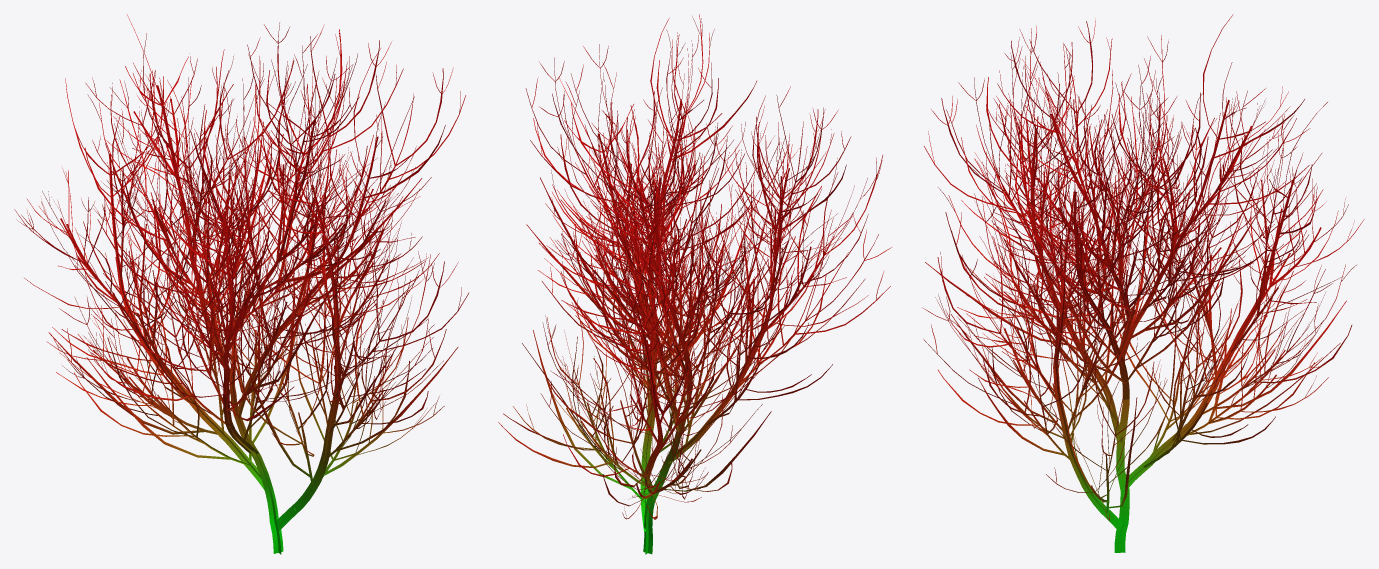
The model's file is Leptadenia_LOD2_Var1_xdkgfgtqx.fbx.
The picture shows the model from 3 angles, left to right: view 1: azimuth 30°, elevation 25°; view 2: azimuth 150°, elevation 25°; view 3: azimuth 270°, elevation 25°; orthographic projection. The views are drawn at different scales.
Parts seen in each view (by area): view 1: _yfb1_Var1_LOD2; view 2: _yfb1_Var1_LOD2; view 3: _yfb1_Var1_LOD2.
Part boxes in pixels (bbox=[...]): _yfb1_Var1_LOD2: bbox=[14, 14, 469, 554]; _yfb1_Var1_LOD2: bbox=[498, 14, 891, 554]; _yfb1_Var1_LOD2: bbox=[922, 14, 1364, 552].
Size of the model in its own units: 119 by 177 by 136.
